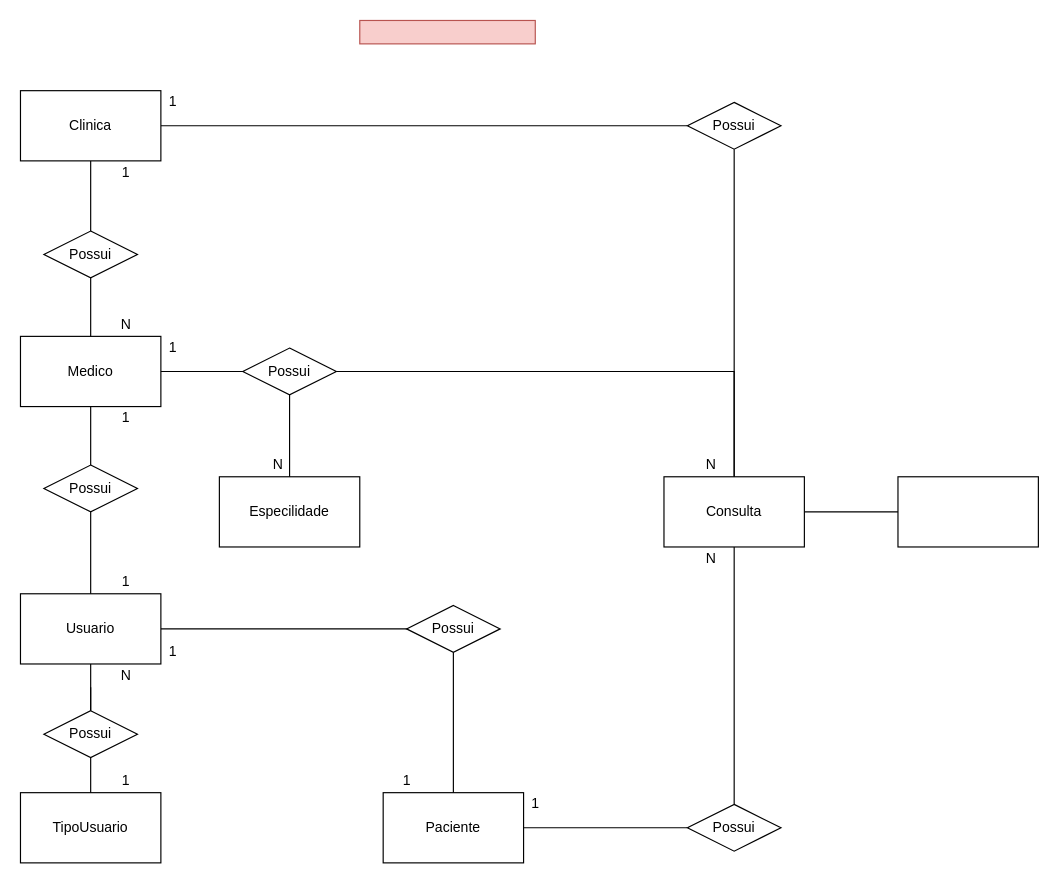
Some shapes in this 1059 by 883 pixel diagram are drawn without their labels. The shapes that lost their labels are listed below. From the top down, each one's centre as x and y in pixels, then its label:
the point at 447,31: MODELO CONCEITUAL
the point at 967,511: Situacao
